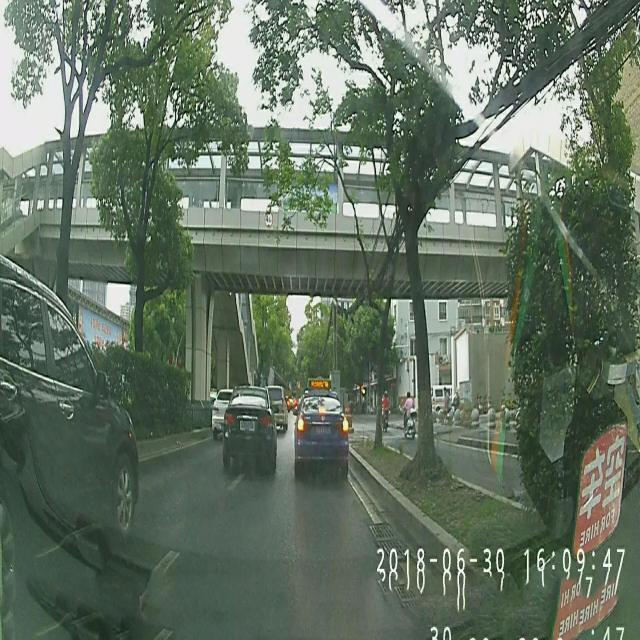car: (0, 252, 140, 572), (294, 386, 349, 478), (222, 382, 278, 472), (212, 388, 234, 439), (264, 386, 288, 432)
